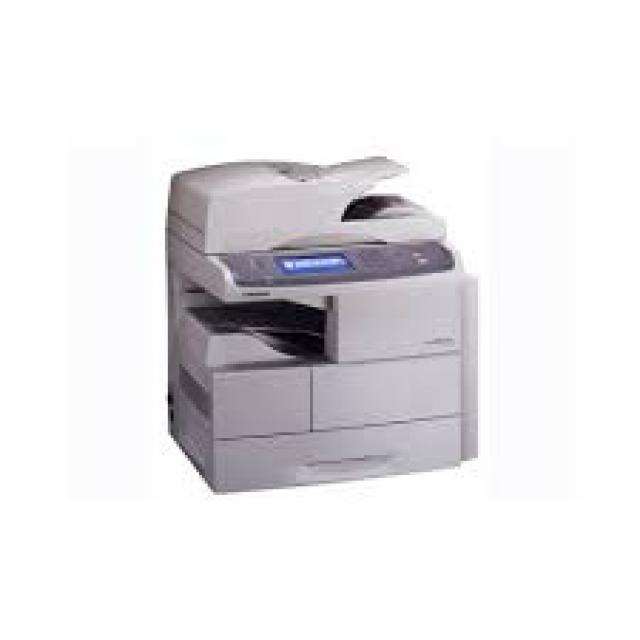printer: (163, 153, 478, 496)
